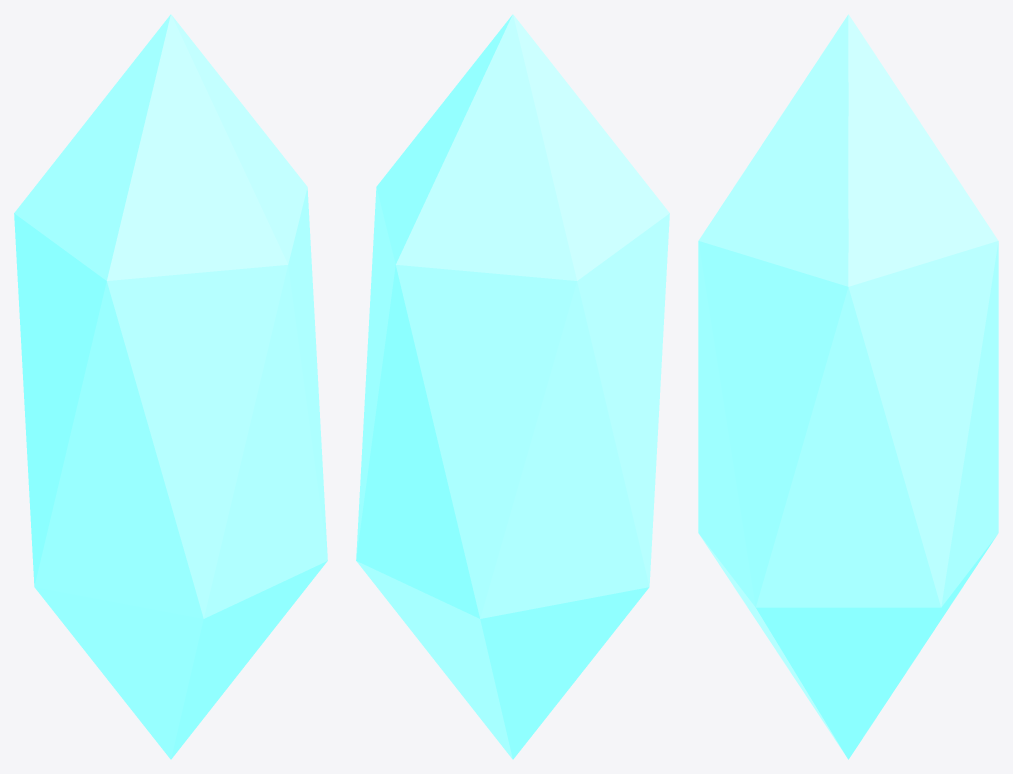
Rendered from crystal.glb.
3 renders of one model, left to right at view 1: azimuth 30°, elevation 25°; view 2: azimuth 150°, elevation 25°; view 3: azimuth 270°, elevation 25°, orthographic.
Visible parts, largest first — view 1: Crystal; view 2: Crystal; view 3: Crystal.
Boxes of the visible parts, x1,y1,x2,y2 form: Crystal: (14,14,327,759); Crystal: (356,14,669,759); Crystal: (698,14,998,759).
Size of the model in its own units: 1.07 by 2.8 by 1.02.
